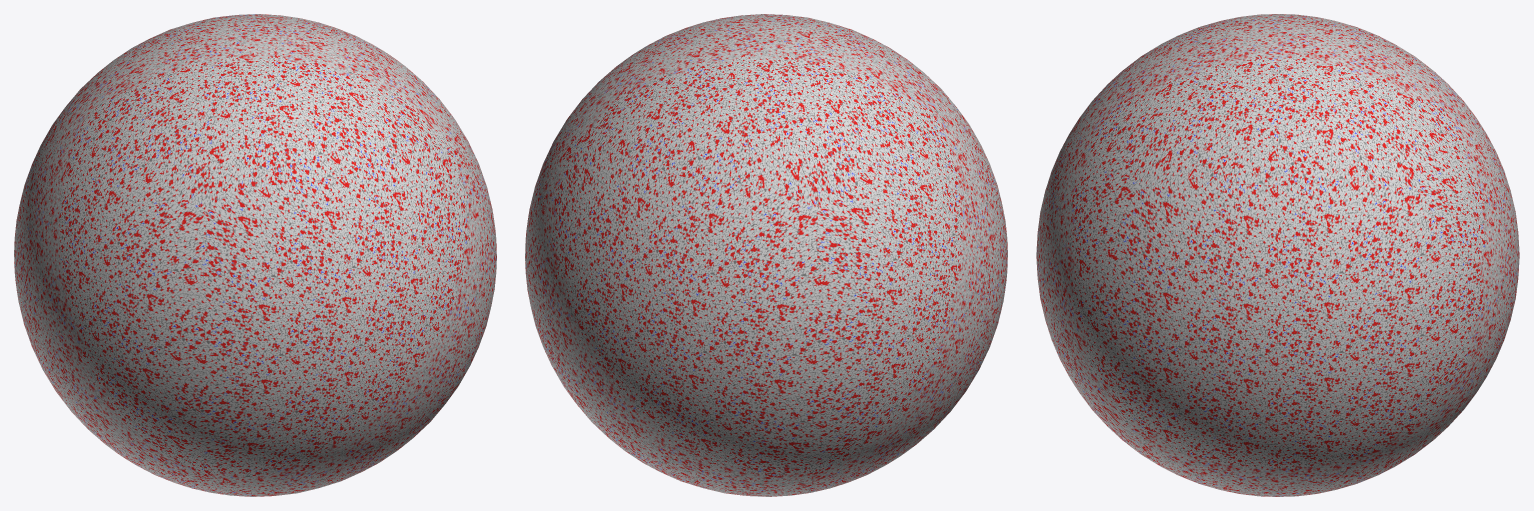
File: LipidNormalPatch_1.fbx
3 renders of one model, left to right at view 1: azimuth 30°, elevation 25°; view 2: azimuth 150°, elevation 25°; view 3: azimuth 270°, elevation 25°, orthographic.
Parts seen in each view (by area): view 1: Sphere_1; view 2: Sphere_1; view 3: Sphere_1.
Boxes of the visible parts, left/top/right/bottom form: Sphere_1: left=14, top=14, right=496, bottom=496; Sphere_1: left=525, top=14, right=1007, bottom=496; Sphere_1: left=1036, top=14, right=1519, bottom=496.
Bounding box in the file's own units: 120 × 120 × 120.
1 material, 1 textured.
